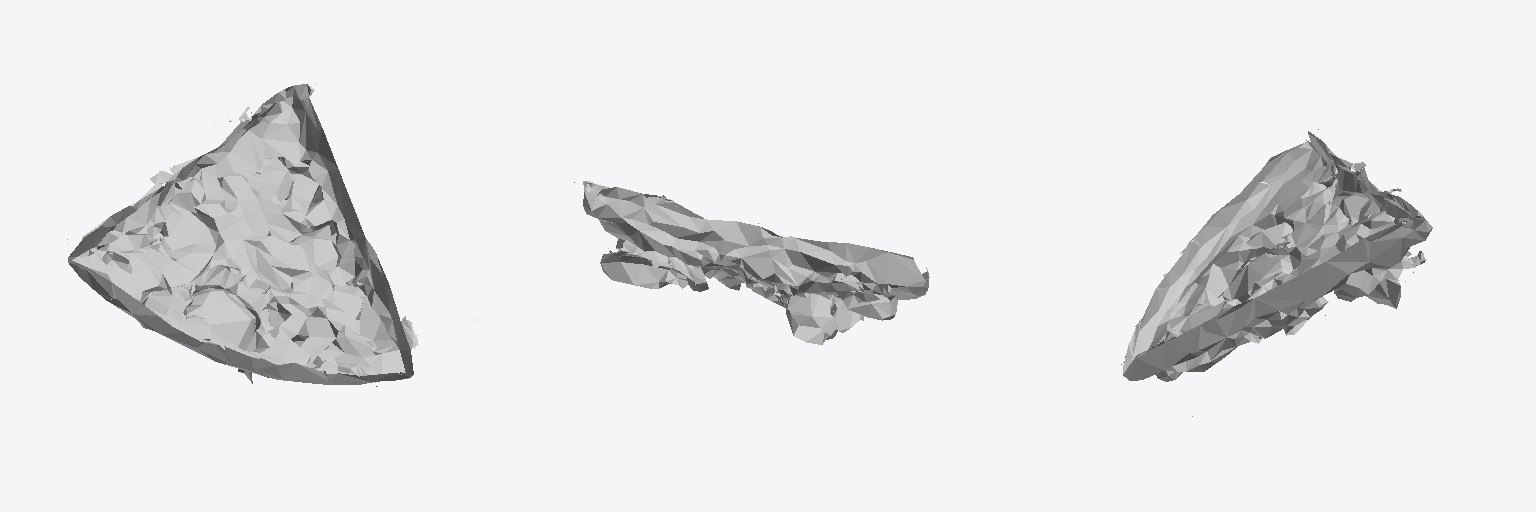
File: pizza_2464.obj
3 renders of one model, left to right at view 1: azimuth 30°, elevation 25°; view 2: azimuth 150°, elevation 25°; view 3: azimuth 270°, elevation 25°, orthographic.
Bounding box in the file's own units: 1.61 × 0.8372 × 1.27.